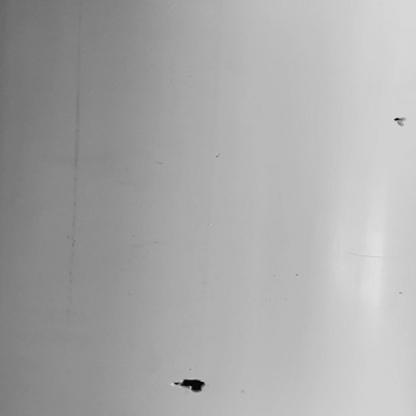kongdong: (168, 368, 234, 395), (384, 116, 409, 135)
